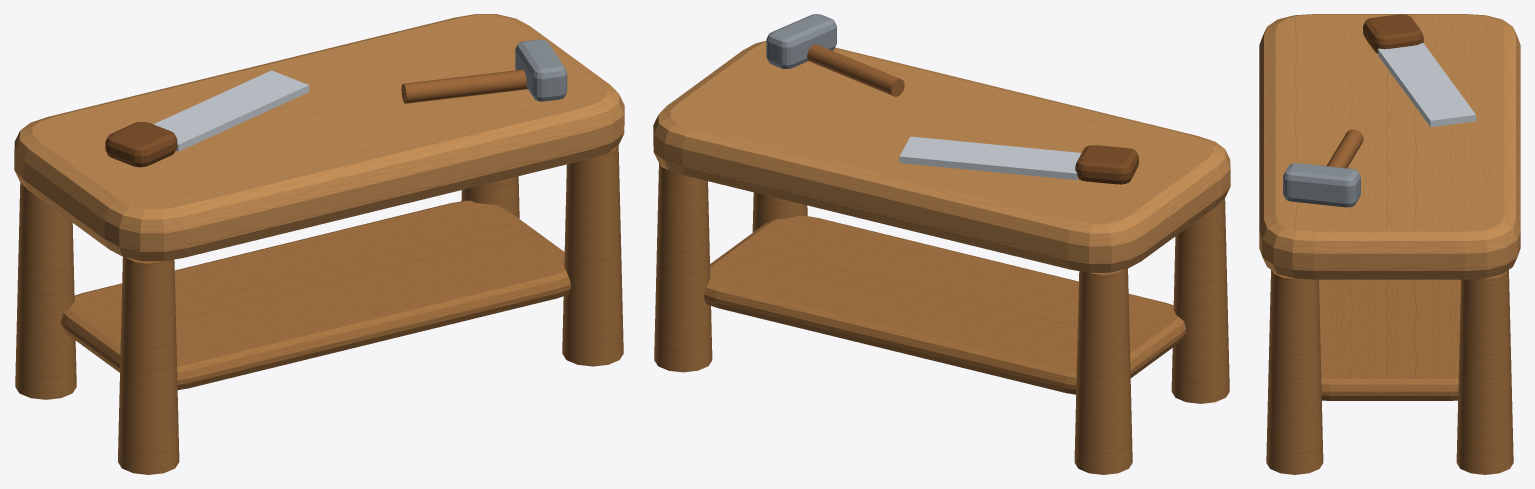
Rendered from workbench-repaired.glb.
3 renders of one model, left to right at view 1: azimuth 30°, elevation 25°; view 2: azimuth 150°, elevation 25°; view 3: azimuth 270°, elevation 25°, orthographic. The views are drawn at different scales.
Size of the model in its own units: 2.3 by 1.28 by 1.1.
6 materials, 3 textured.
